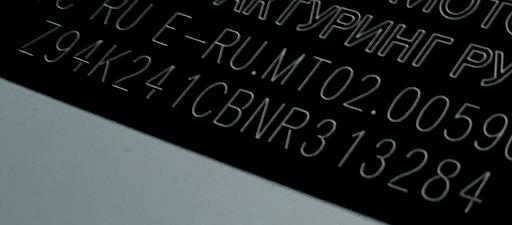letter: (386, 146, 430, 192), (419, 157, 463, 202), (238, 97, 286, 138), (16, 19, 62, 57), (268, 107, 310, 148), (358, 137, 398, 178), (212, 88, 254, 127), (87, 43, 131, 80), (300, 117, 338, 157), (458, 169, 492, 213), (111, 54, 151, 91), (192, 82, 228, 117), (142, 64, 176, 99), (334, 129, 366, 166), (170, 73, 202, 109), (44, 30, 80, 62), (70, 38, 102, 71)
